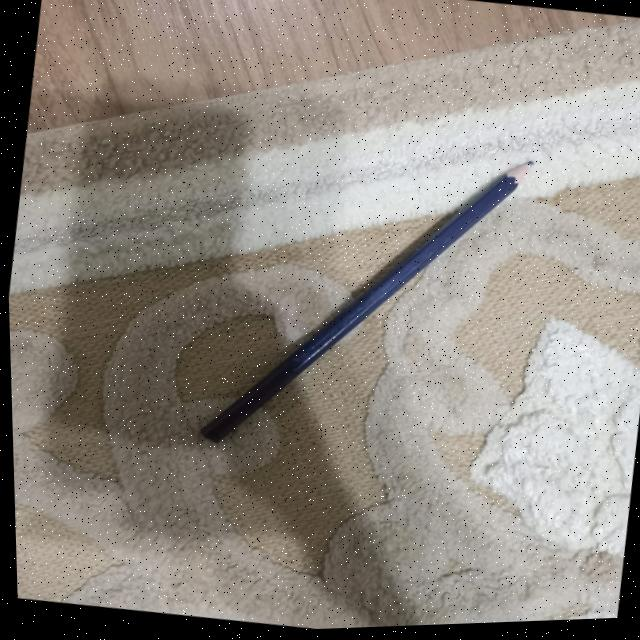pencil: (198, 164, 532, 445)
